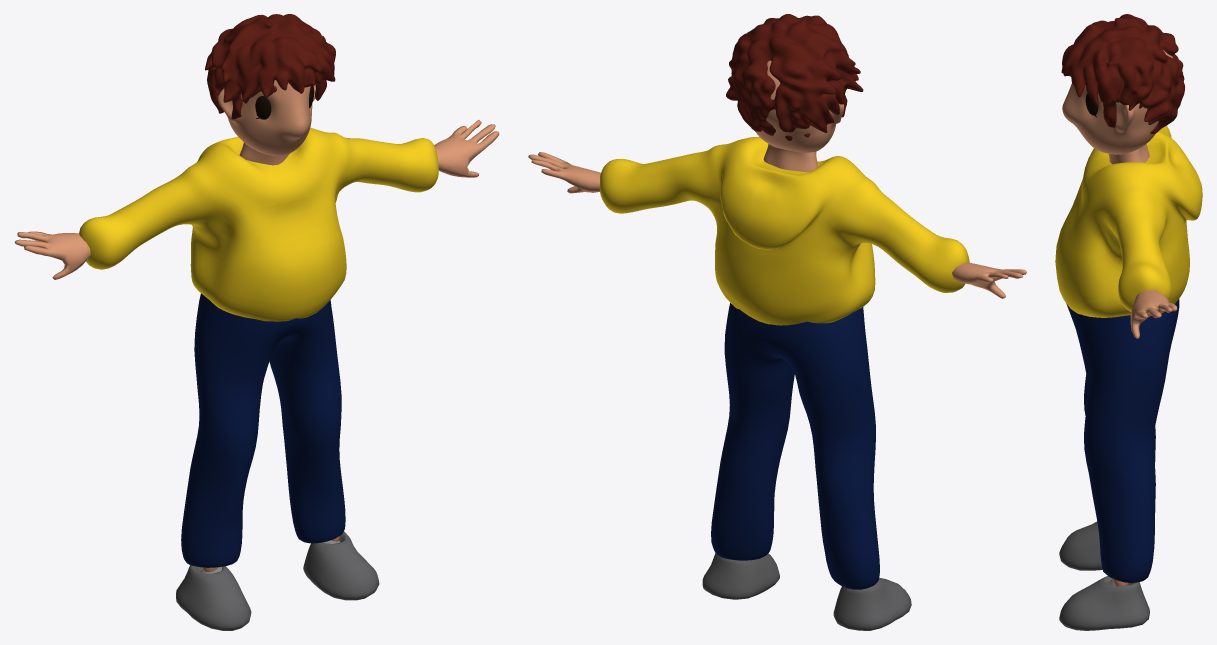
File: PERSONAJE_ALEX_TPOSE_LOW.fbx
The picture shows the model from 3 angles, left to right: view 1: azimuth 30°, elevation 25°; view 2: azimuth 150°, elevation 25°; view 3: azimuth 270°, elevation 25°; orthographic projection. The views are drawn at different scales.
Visible parts, largest first — view 1: SUDADERA_ALEX_LOW_TPOSE, PANTALON_LOW_ALEX, PELO_ALEX_LOW, ZAPATILLAS_ALEX_LOW, CABEZA_LOW_ALEX, BRAZOS_TPOSE_ALEX_LOW; view 2: SUDADERA_ALEX_LOW_TPOSE, PANTALON_LOW_ALEX, PELO_ALEX_LOW, ZAPATILLAS_ALEX_LOW, BRAZOS_TPOSE_ALEX_LOW, CABEZA_LOW_ALEX, CUELLO_ALEX_LOW; view 3: SUDADERA_ALEX_LOW_TPOSE, PANTALON_LOW_ALEX, PELO_ALEX_LOW, ZAPATILLAS_ALEX_LOW, CABEZA_LOW_ALEX, BRAZOS_TPOSE_ALEX_LOW, CUELLO_ALEX_LOW.
Boxes of the visible parts, x1,y1,x2,y2 form: SUDADERA_ALEX_LOW_TPOSE: (79,127,438,321); PANTALON_LOW_ALEX: (181,293,345,567); PELO_ALEX_LOW: (205,14,335,119); ZAPATILLAS_ALEX_LOW: (176,531,379,630); CABEZA_LOW_ALEX: (218,80,315,155); BRAZOS_TPOSE_ALEX_LOW: (14,120,499,279); SUDADERA_ALEX_LOW_TPOSE: (599,137,969,325); PANTALON_LOW_ALEX: (711,303,879,589); PELO_ALEX_LOW: (726,14,863,140); ZAPATILLAS_ALEX_LOW: (702,553,911,630); BRAZOS_TPOSE_ALEX_LOW: (528,152,1026,298); CABEZA_LOW_ALEX: (755,60,843,152); CUELLO_ALEX_LOW: (763,144,818,172); SUDADERA_ALEX_LOW_TPOSE: (1055,125,1202,317); PANTALON_LOW_ALEX: (1066,299,1179,582); PELO_ALEX_LOW: (1061,14,1184,134); ZAPATILLAS_ALEX_LOW: (1059,521,1149,630); CABEZA_LOW_ALEX: (1062,50,1173,154); BRAZOS_TPOSE_ALEX_LOW: (1130,290,1177,338); CUELLO_ALEX_LOW: (1109,144,1149,164).
Size of the model in its own units: 195 by 223 by 51.87.
